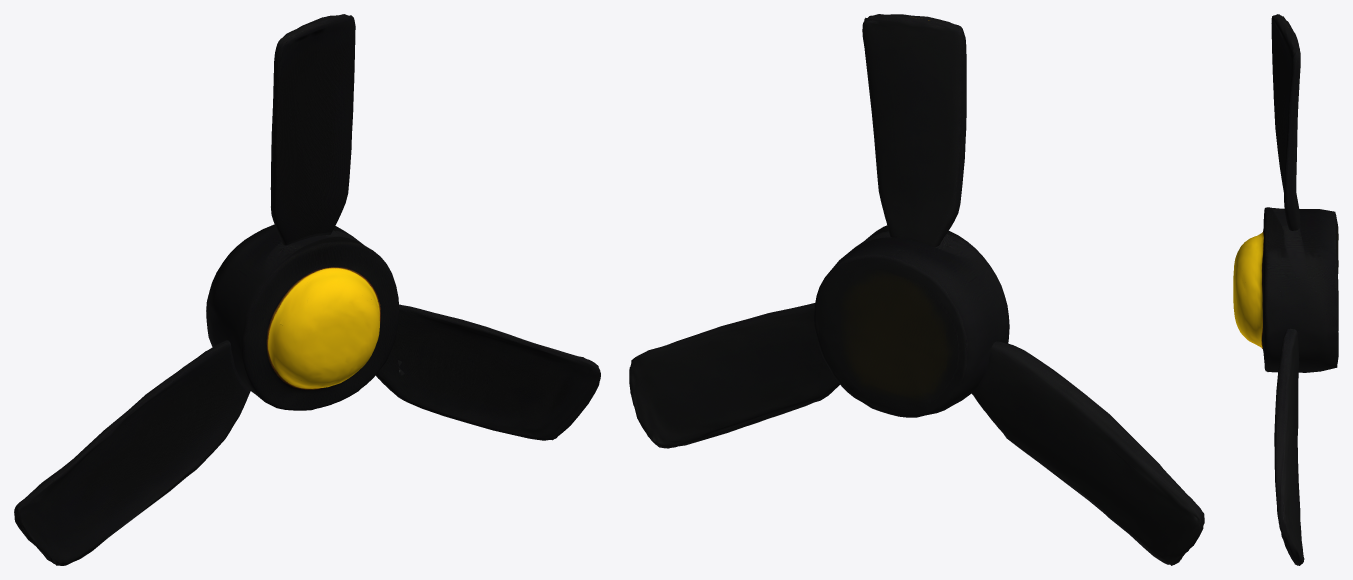
The model's file is Meshy_AI_Three_Blade_Propeller_0714083137_texture.glb.
The picture shows the model from 3 angles, left to right: view 1: azimuth 30°, elevation 25°; view 2: azimuth 150°, elevation 25°; view 3: azimuth 270°, elevation 25°; orthographic projection. The views are drawn at different scales.
Size of the model in its own units: 1 by 0.8027 by 0.1777.
1 material, 1 textured.
